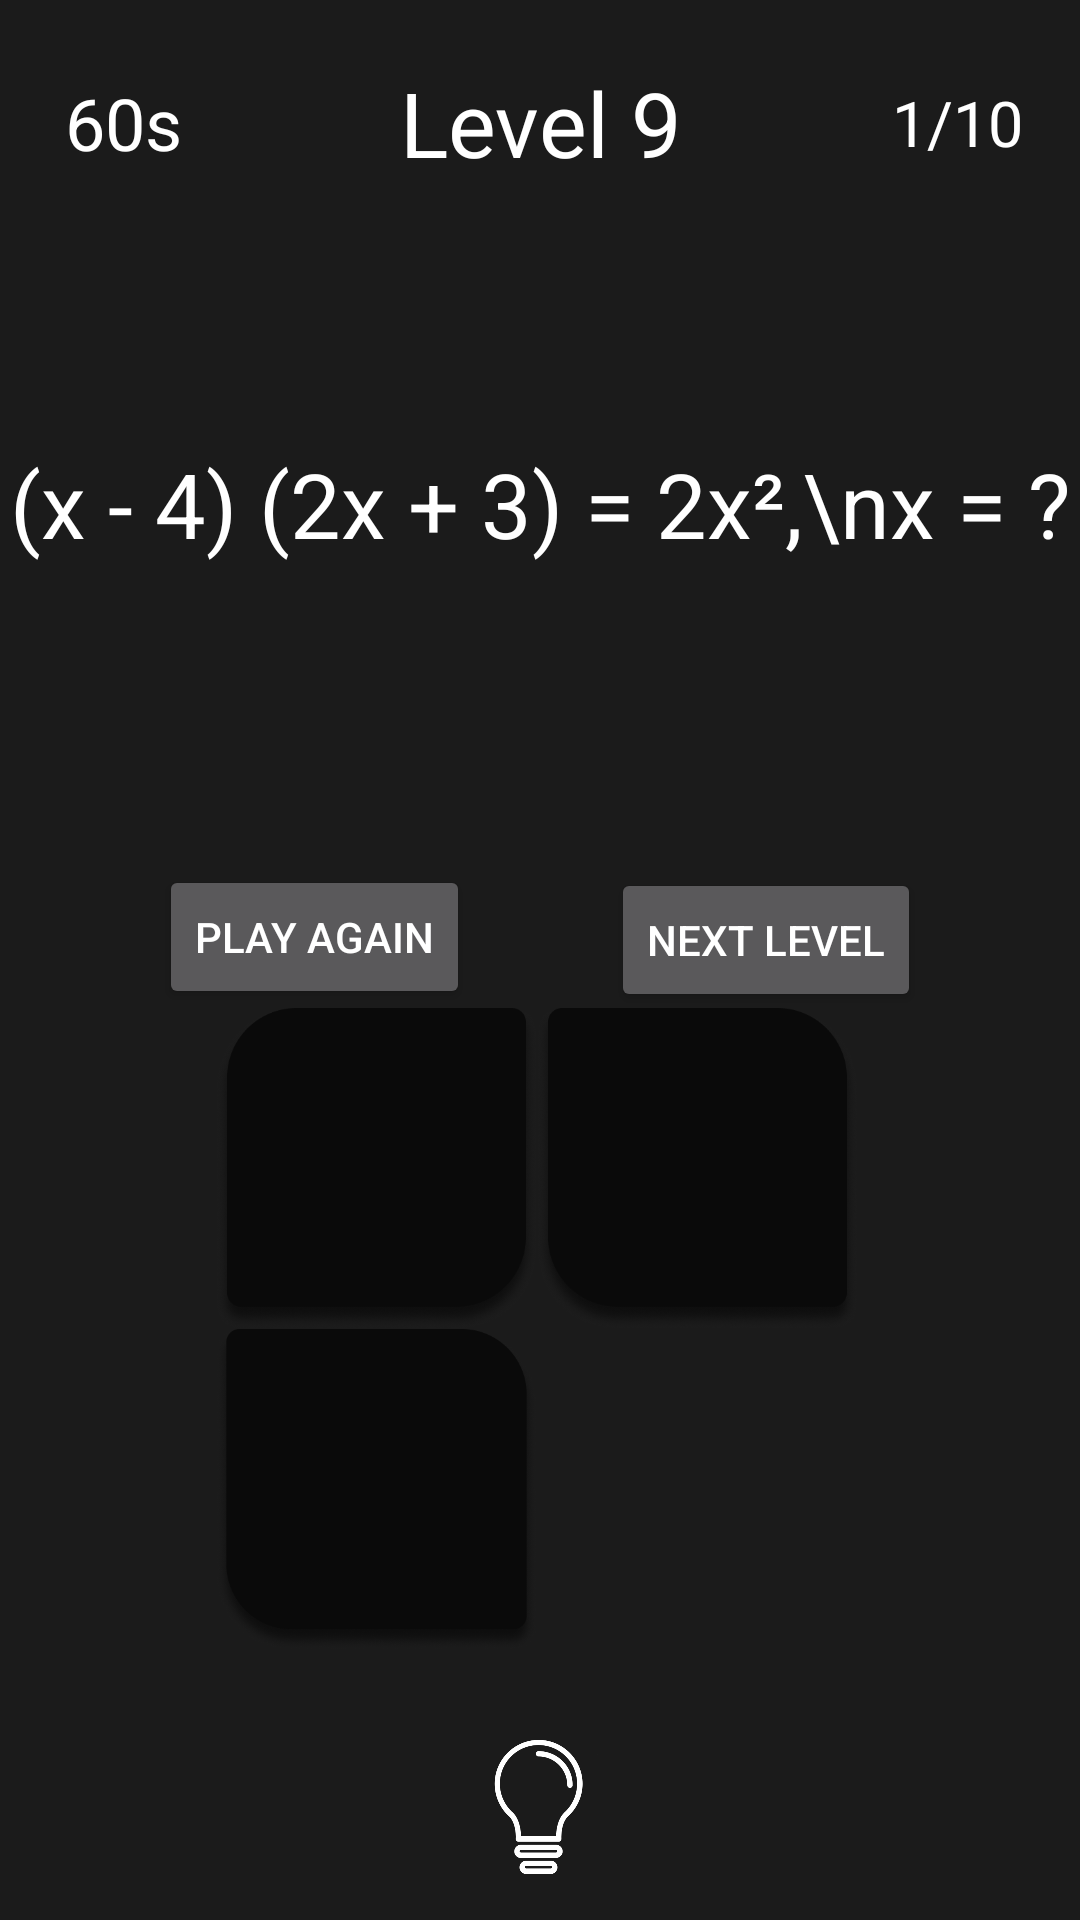

Icon bounding boxes for this 1080w x 1920h phone screenshot, format box(x1, y1, x2, y2):
bulb: box(494, 1740, 583, 1874)
